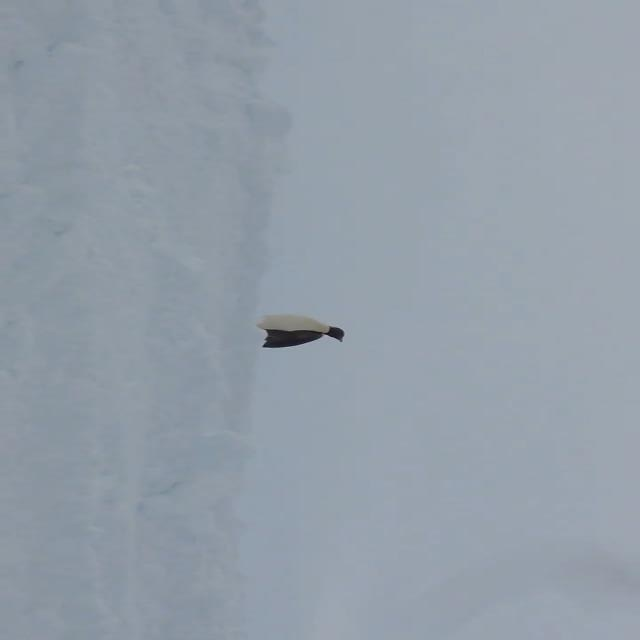penguin: (258, 314, 343, 349)
